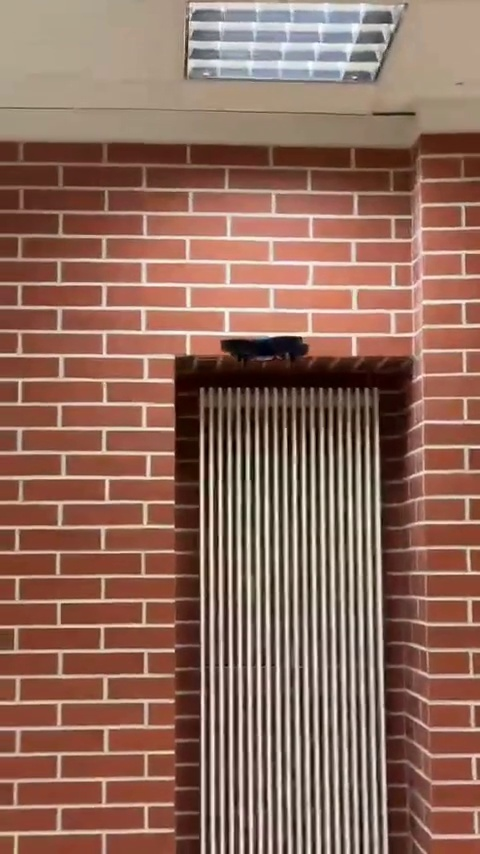drone: (221, 333, 309, 366)
